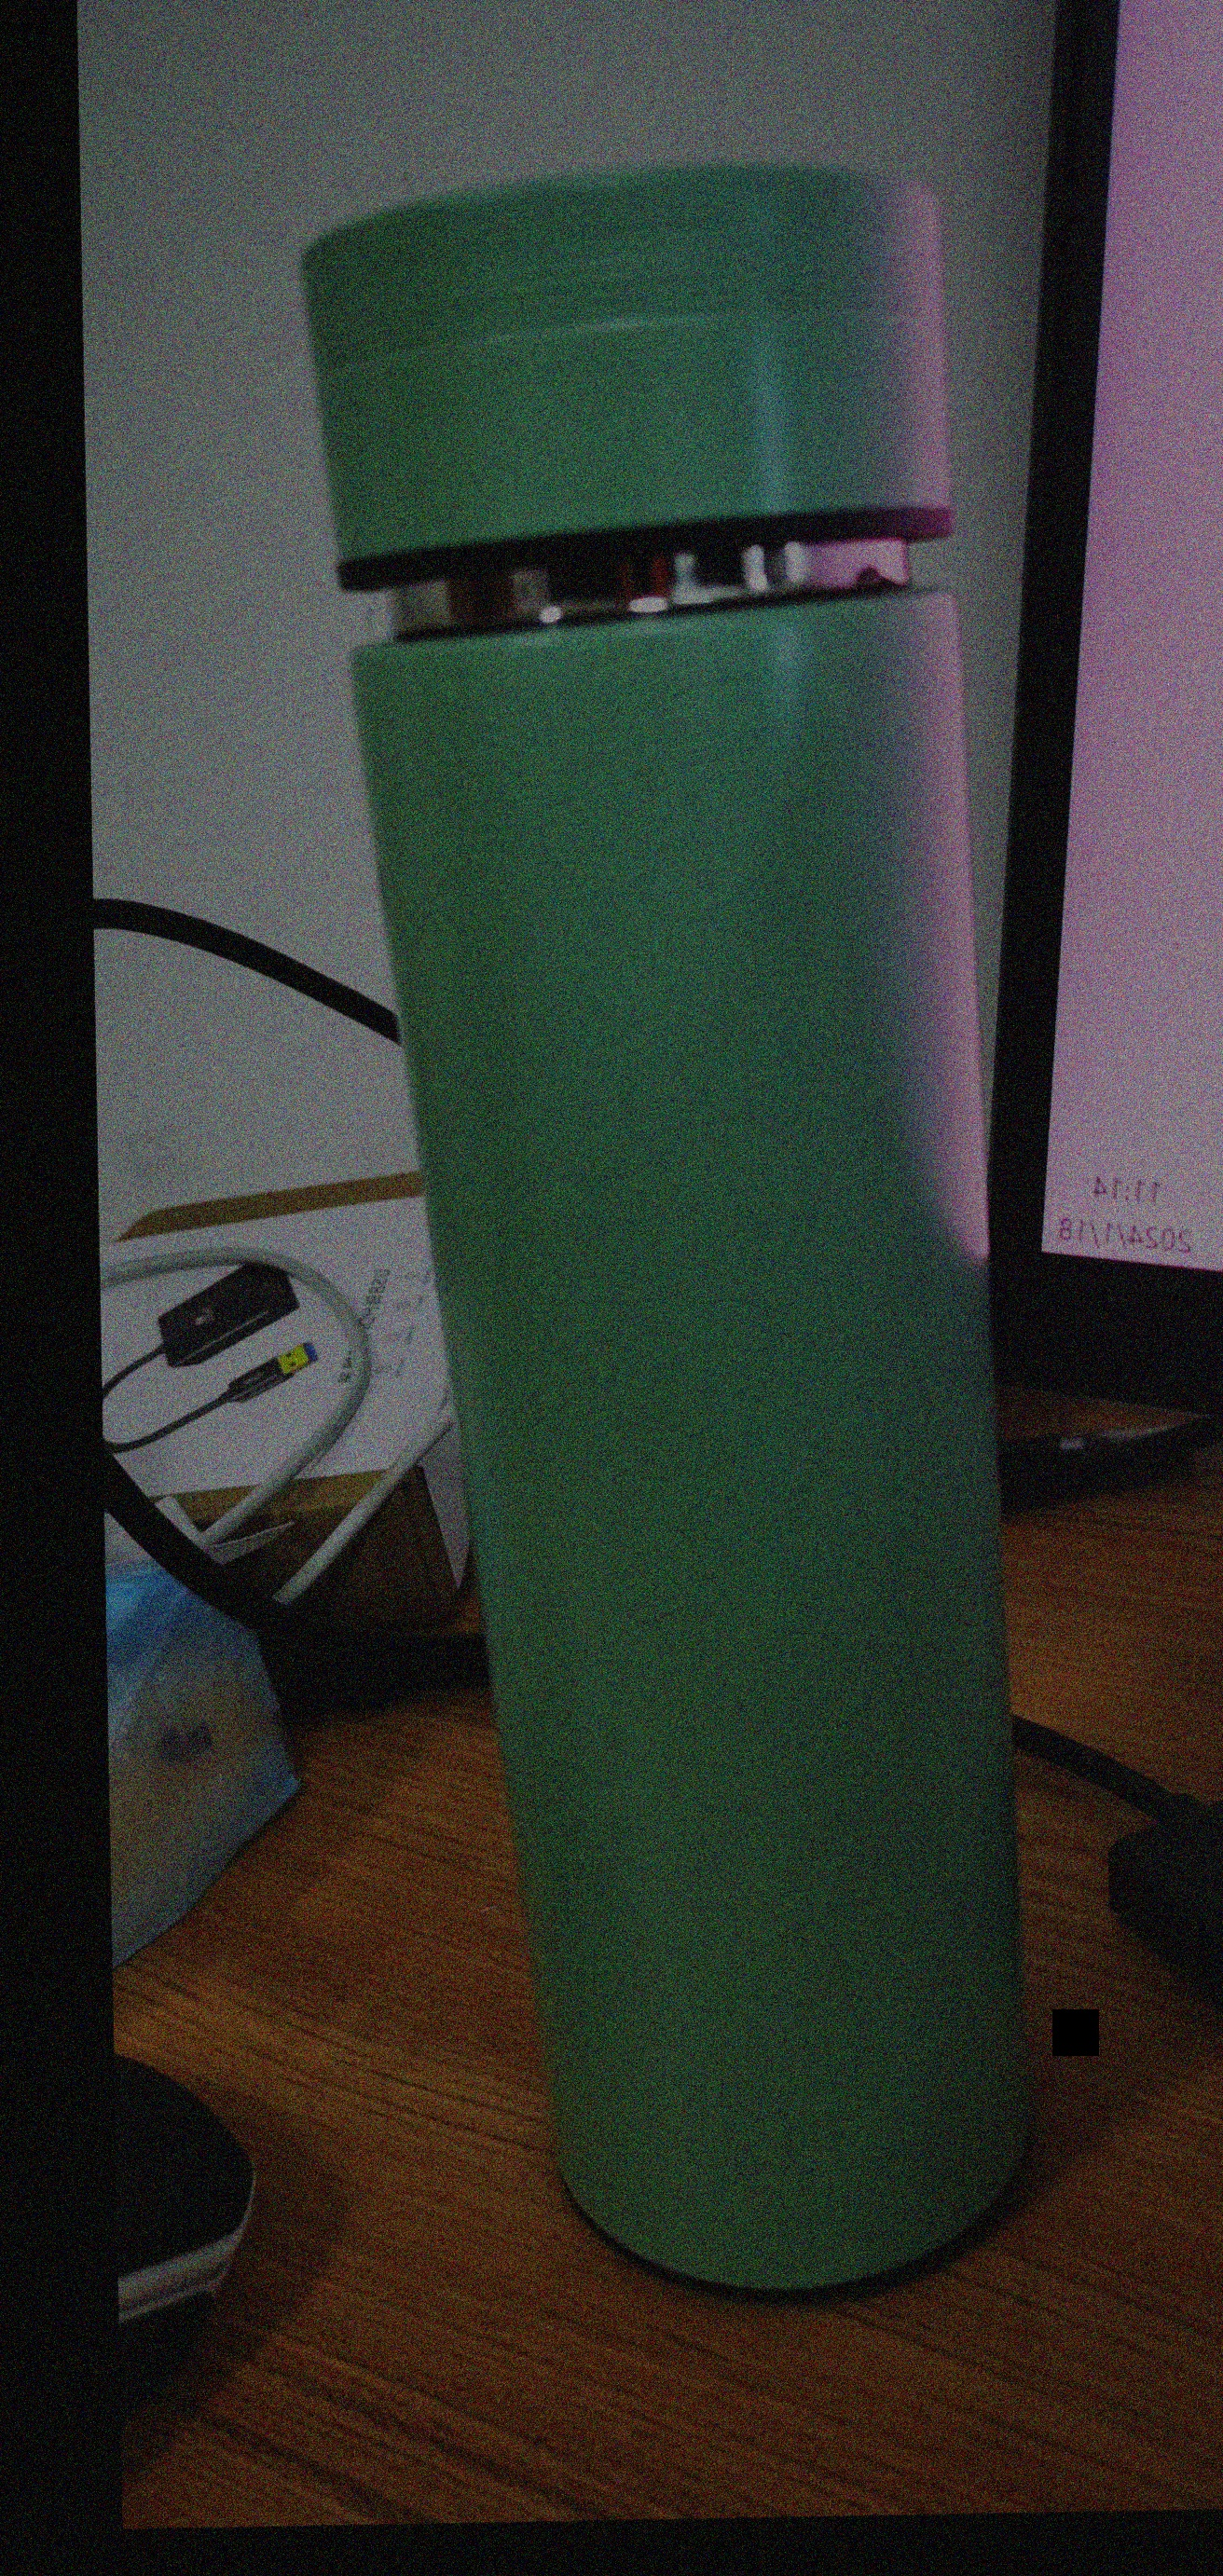cup: (454, 141, 1031, 2308)
